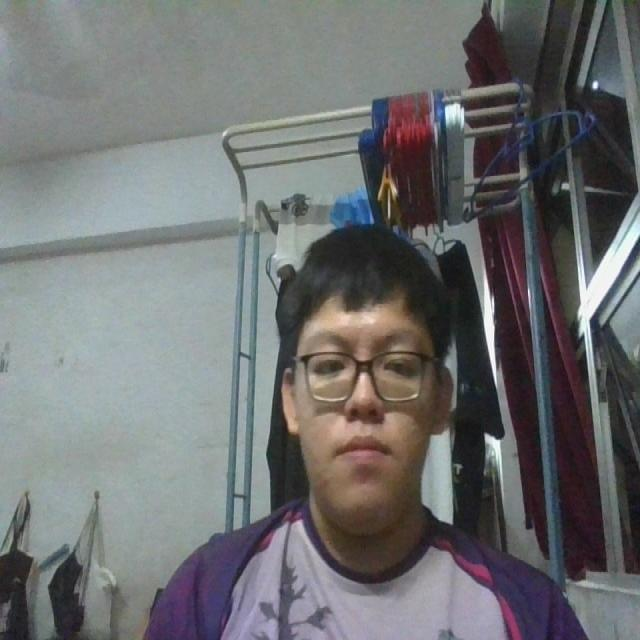person_without_labcoat: (146, 227, 585, 639)
